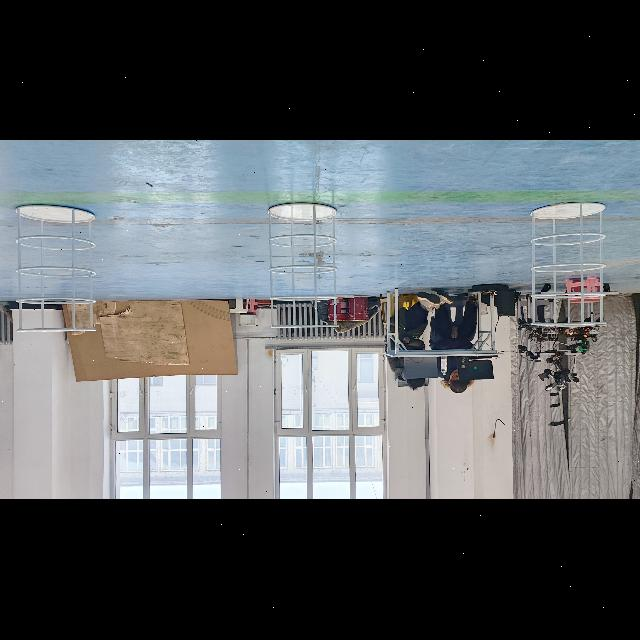S: (12, 202, 102, 338), (526, 199, 610, 331), (262, 198, 342, 336)
